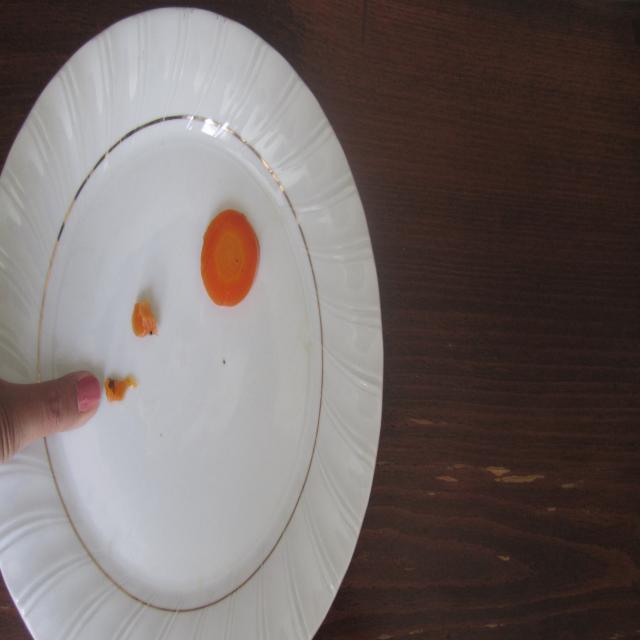carrot: (99, 192, 275, 407)
